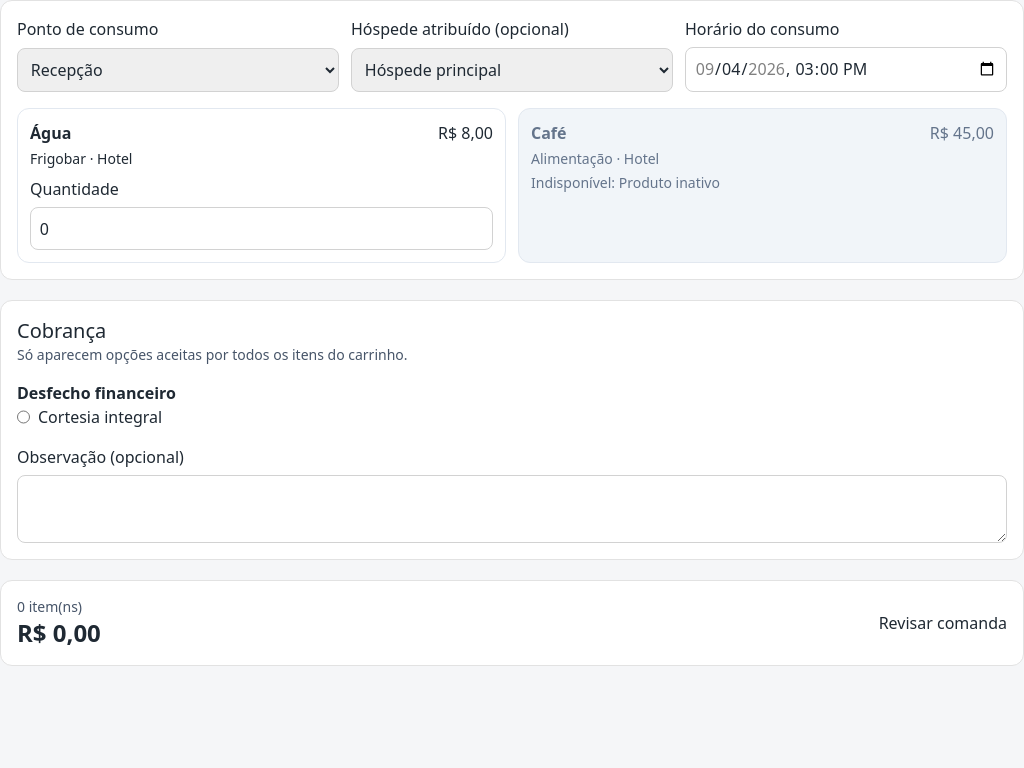
Test case: ConsumptionOrderComposer › shows unavailable reasons, intersects modes and restores focus after Escape
Expected: the text "Indisponível: Produto inativo" is shown, [531,173,720,192]
Replace the text in the number field named "Quantidade de Água" with "1": {"x": 262, "y": 229} [30,207,493,250]
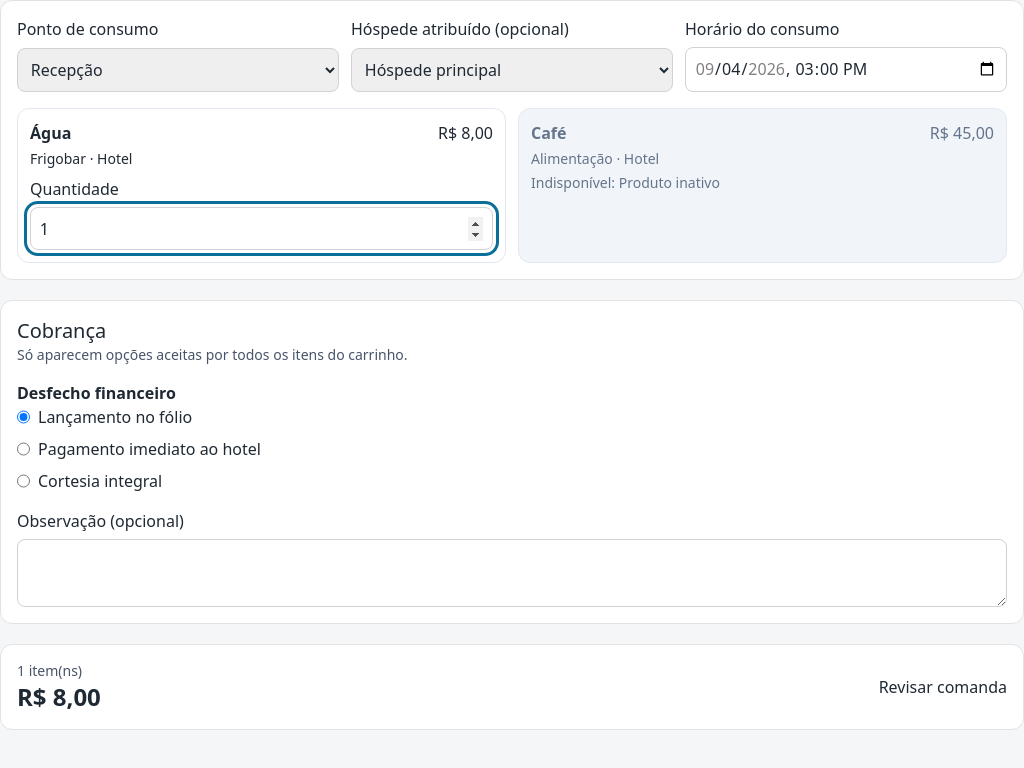
Expected: the radio button labelled "Lançamento no fólio" is checked, [17,405,30,429]
Click the button "Revisar comanda": {"x": 943, "y": 687} [879,675,1007,699]
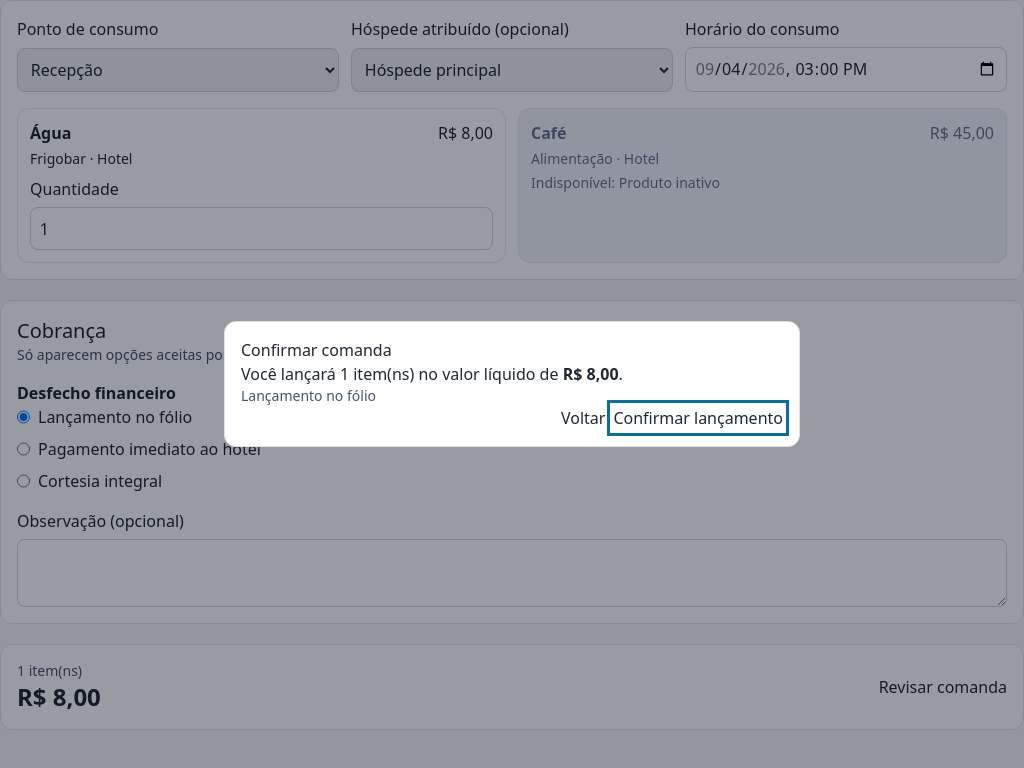
Expected: the dialog "Confirmar comanda" is shown, [224,321,800,447]
Press Tab
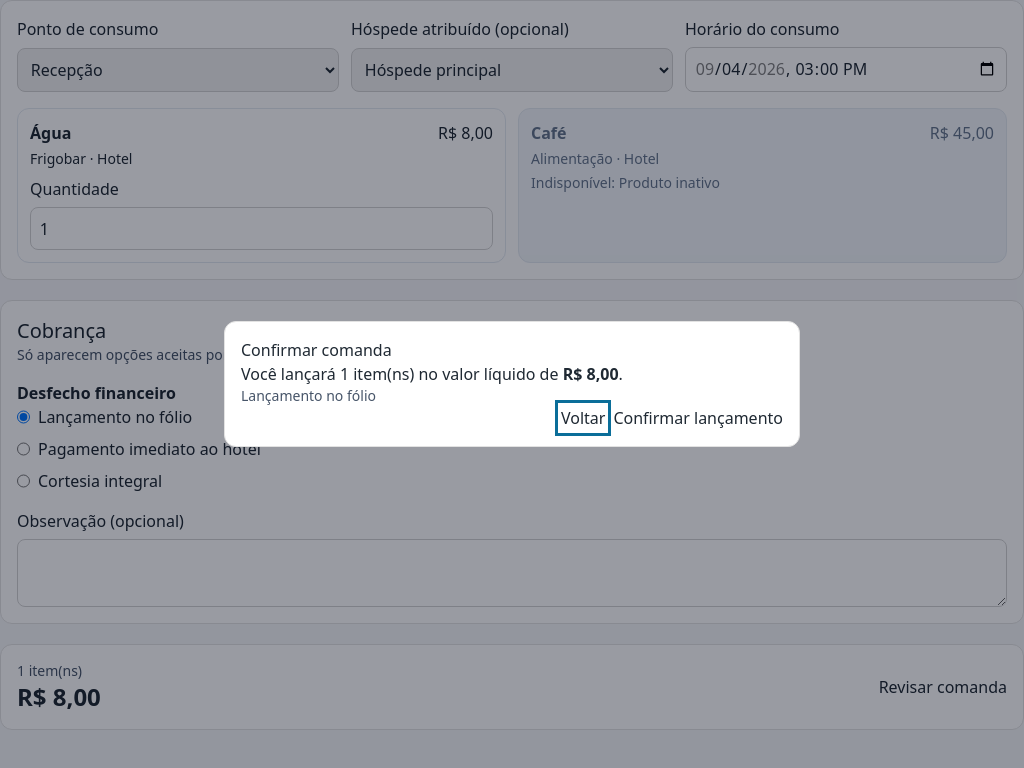
Press Shift+Tab
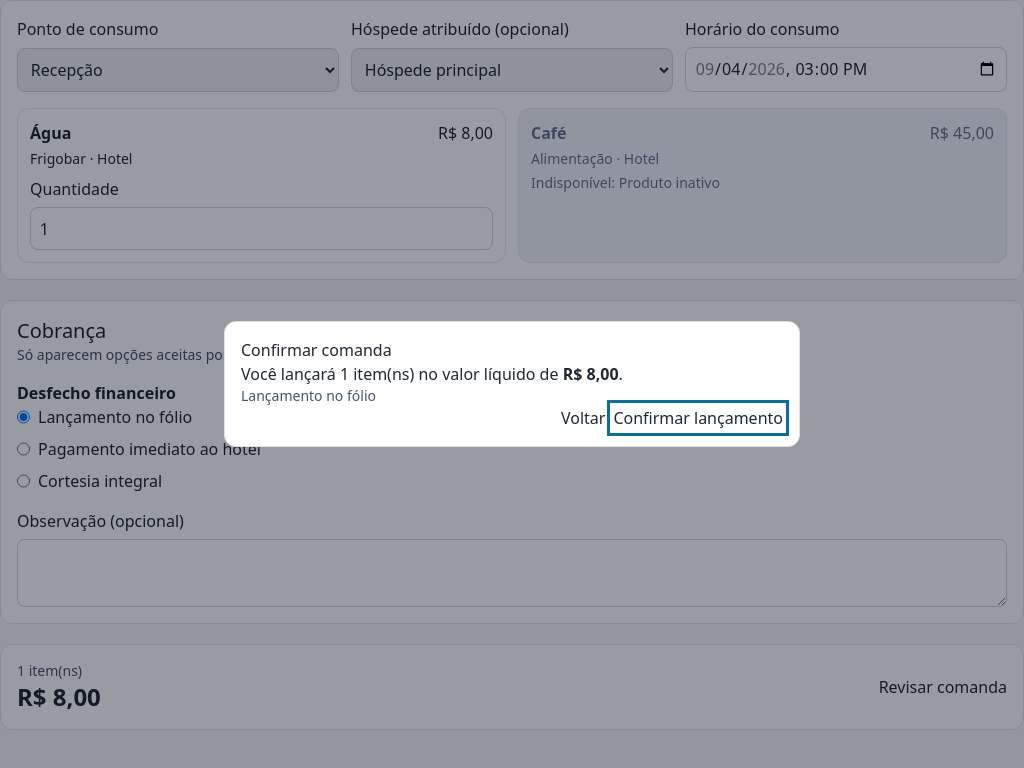
Press Escape
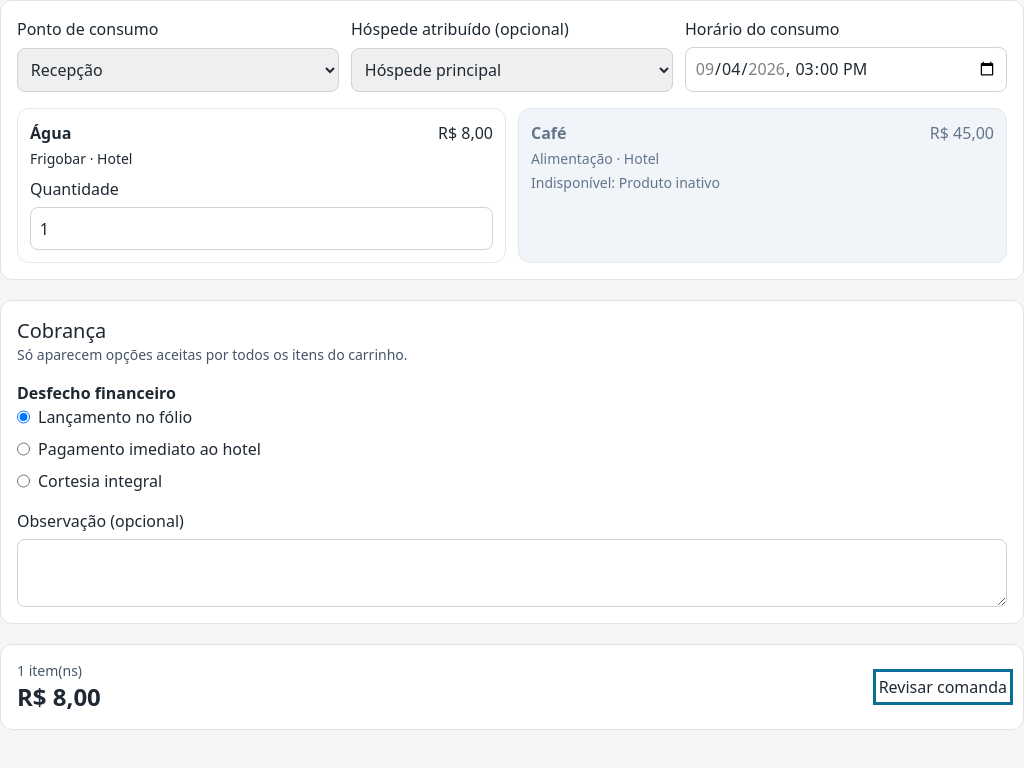
Expected: the dialog is gone
